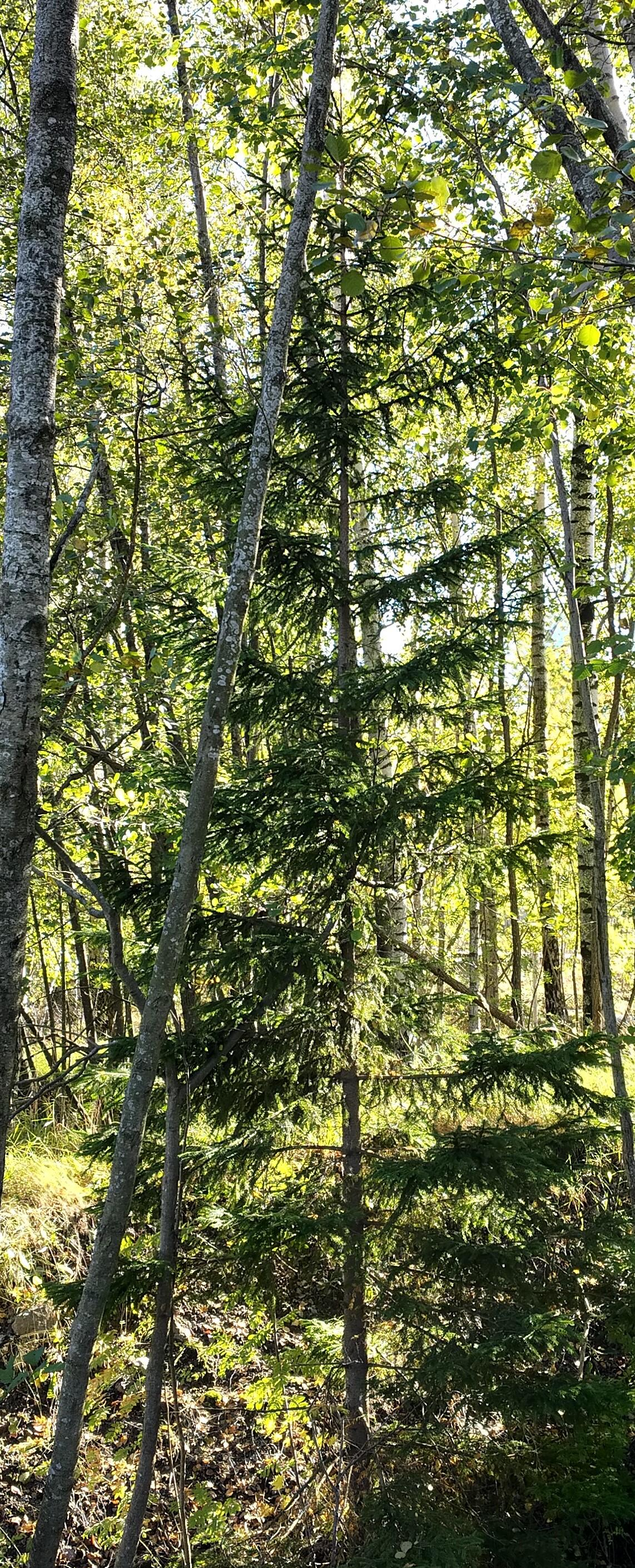Spruce: (240, 249, 532, 1527)
